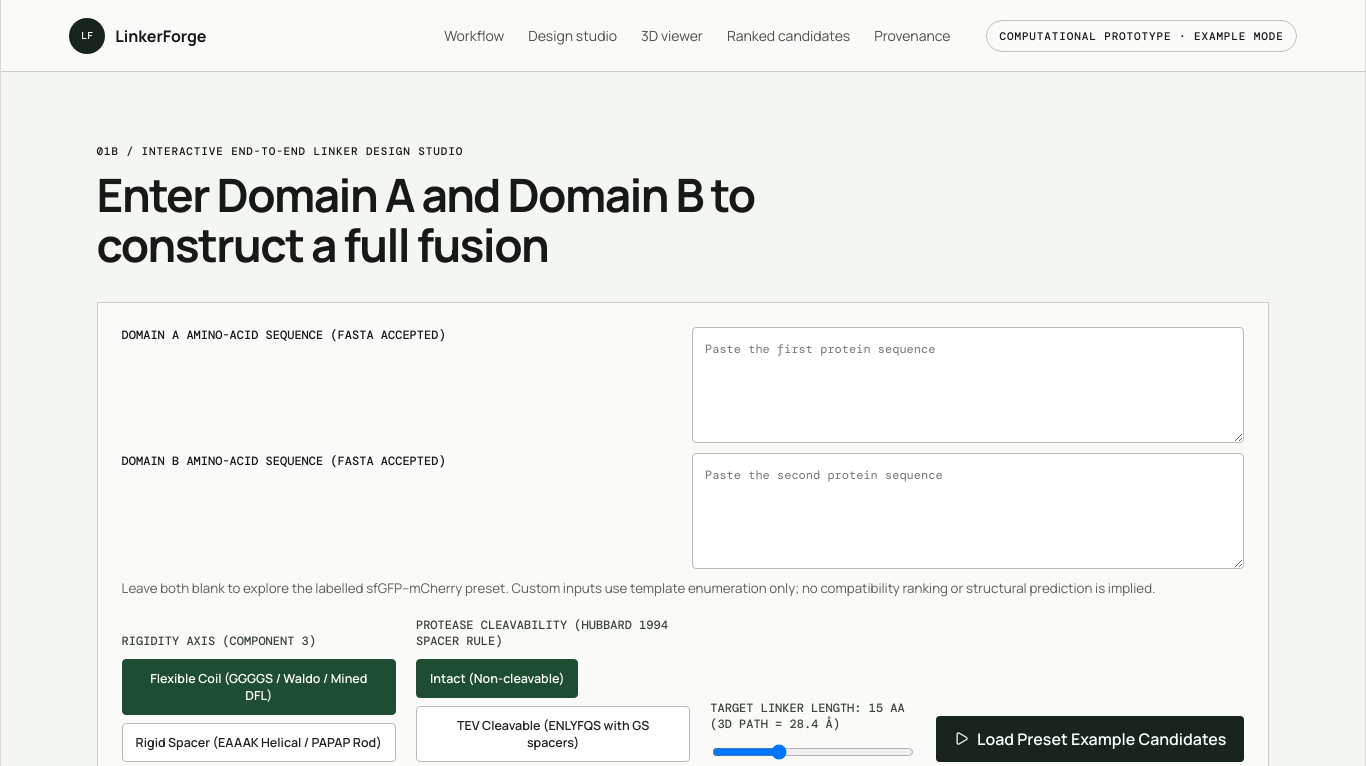
Test: LinkerForge interface › accepts two custom domains and offers full-fusion templates without invented coordinates
The width and height of the screenshot is (1366, 766).
(page scrolled)
Type "ACDEFG" into the text box labelled "Domain A amino-acid sequence (FASTA accepted)".
click(968, 385); type("ACDEFG")  # box [692,327,1244,443]
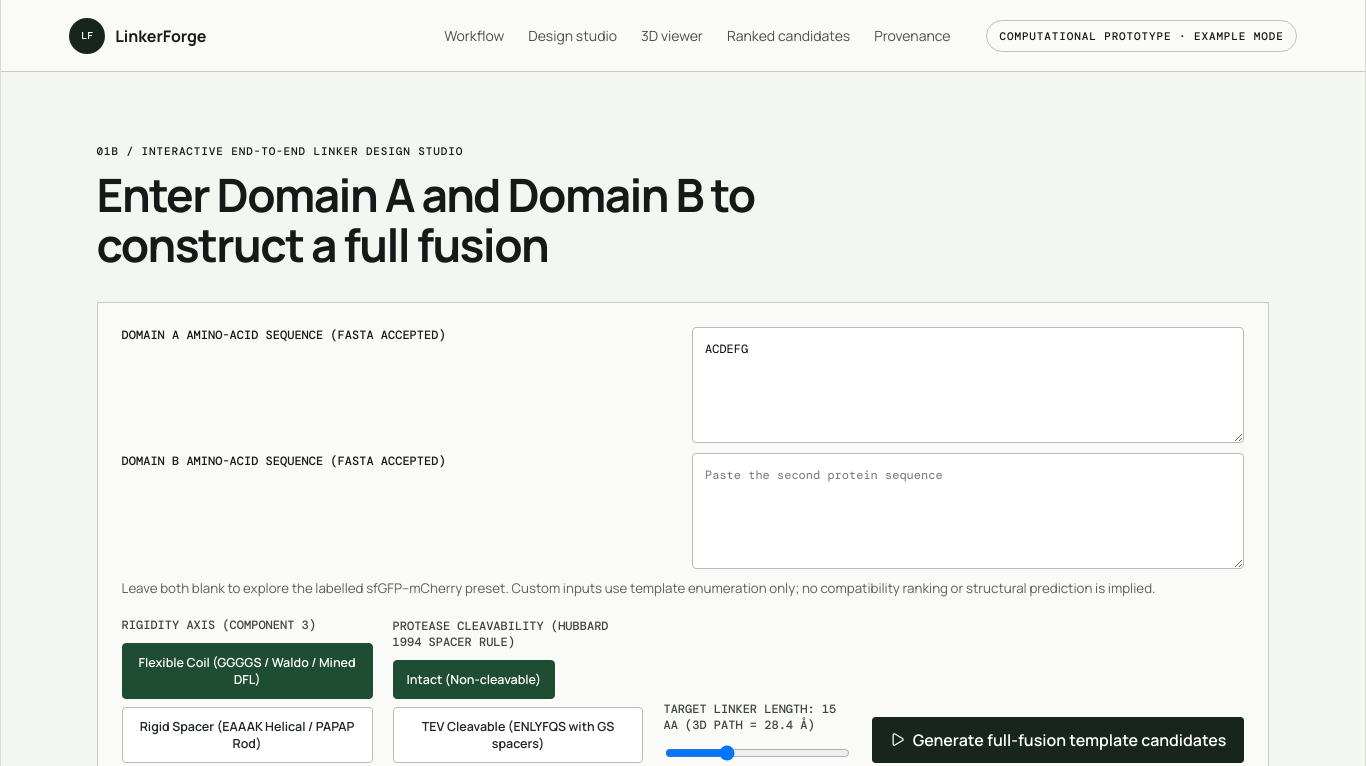
Type "HIKLMN" into the text box labelled "Domain B amino-acid sequence (FASTA accepted)".
click(968, 511); type("HIKLMN")  # box [692,453,1244,569]
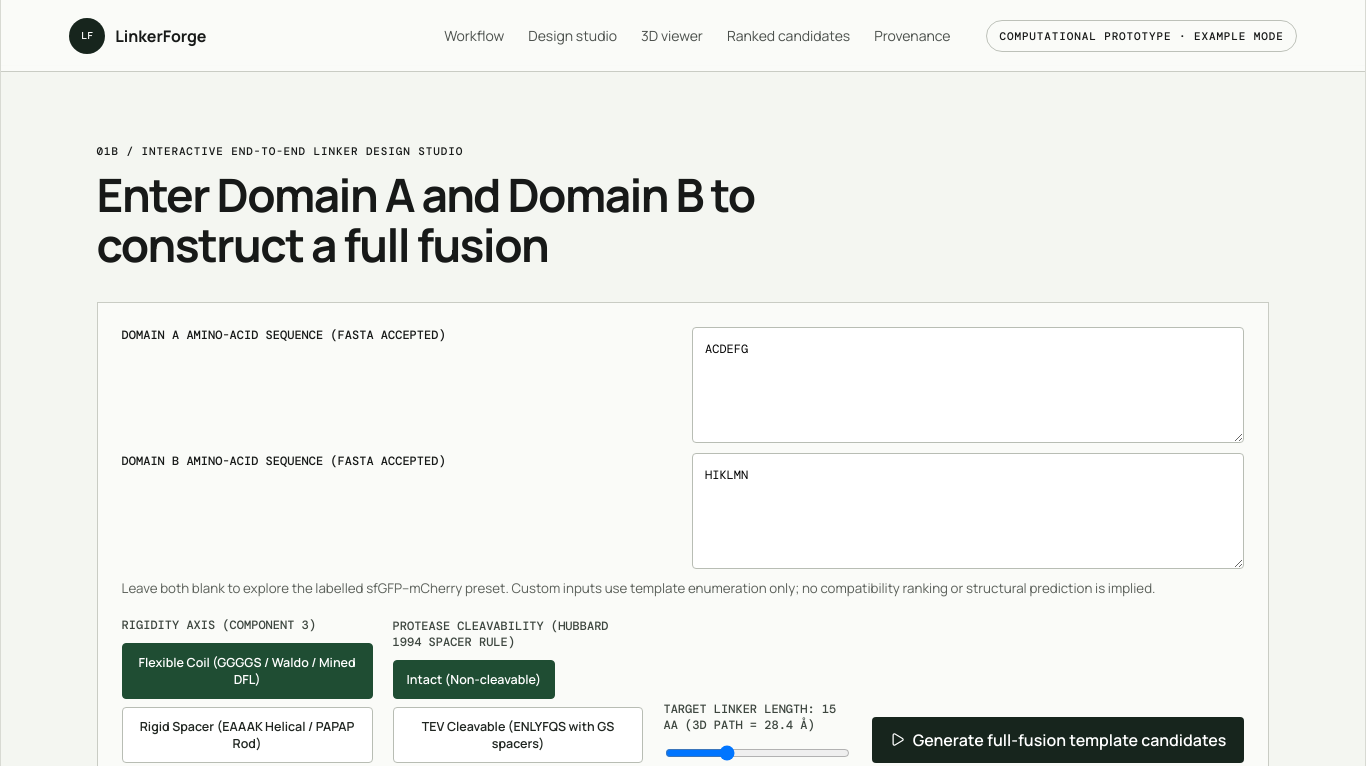
Click the button "Generate full-fusion template candidates".
click(1058, 740)  # box [872,717,1244,763]
(page scrolled)
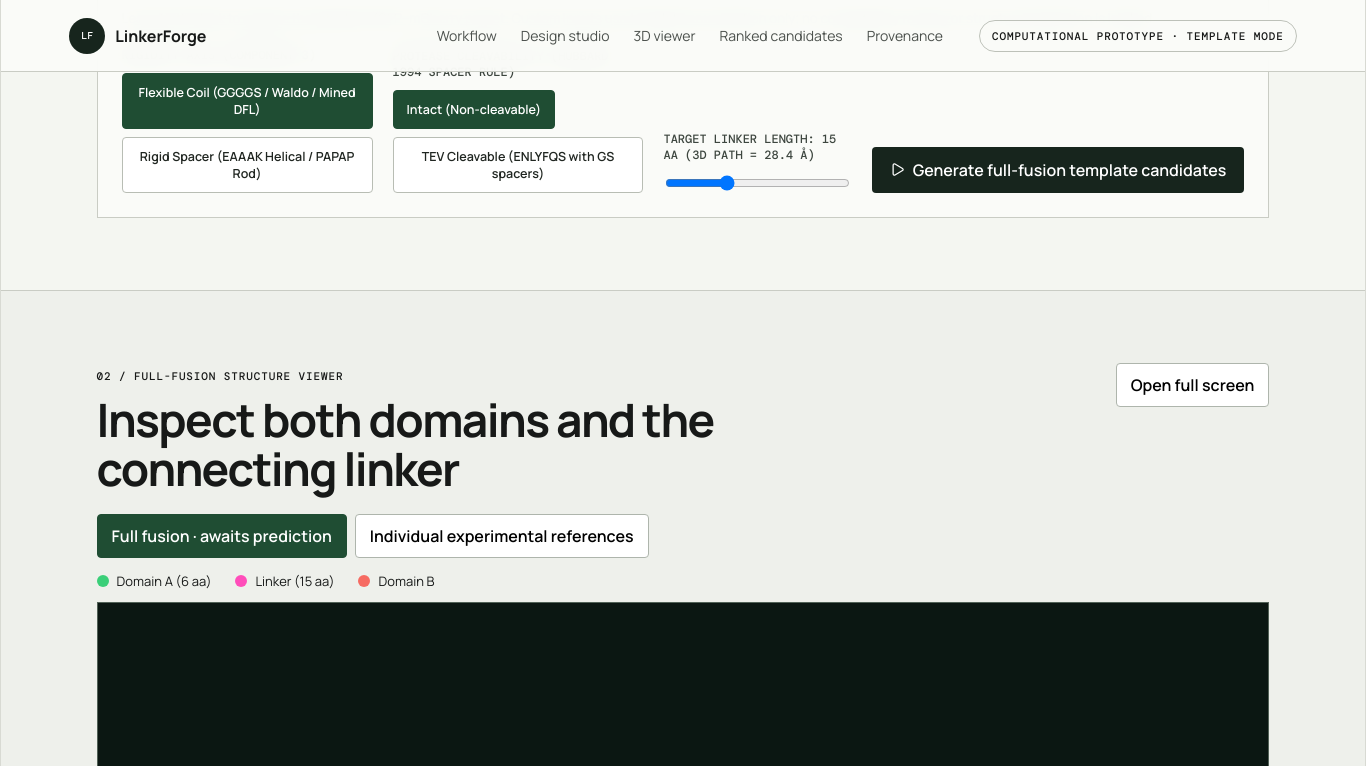
Click the button "Open full screen".
click(1192, 385)  # box [1116,363,1269,407]
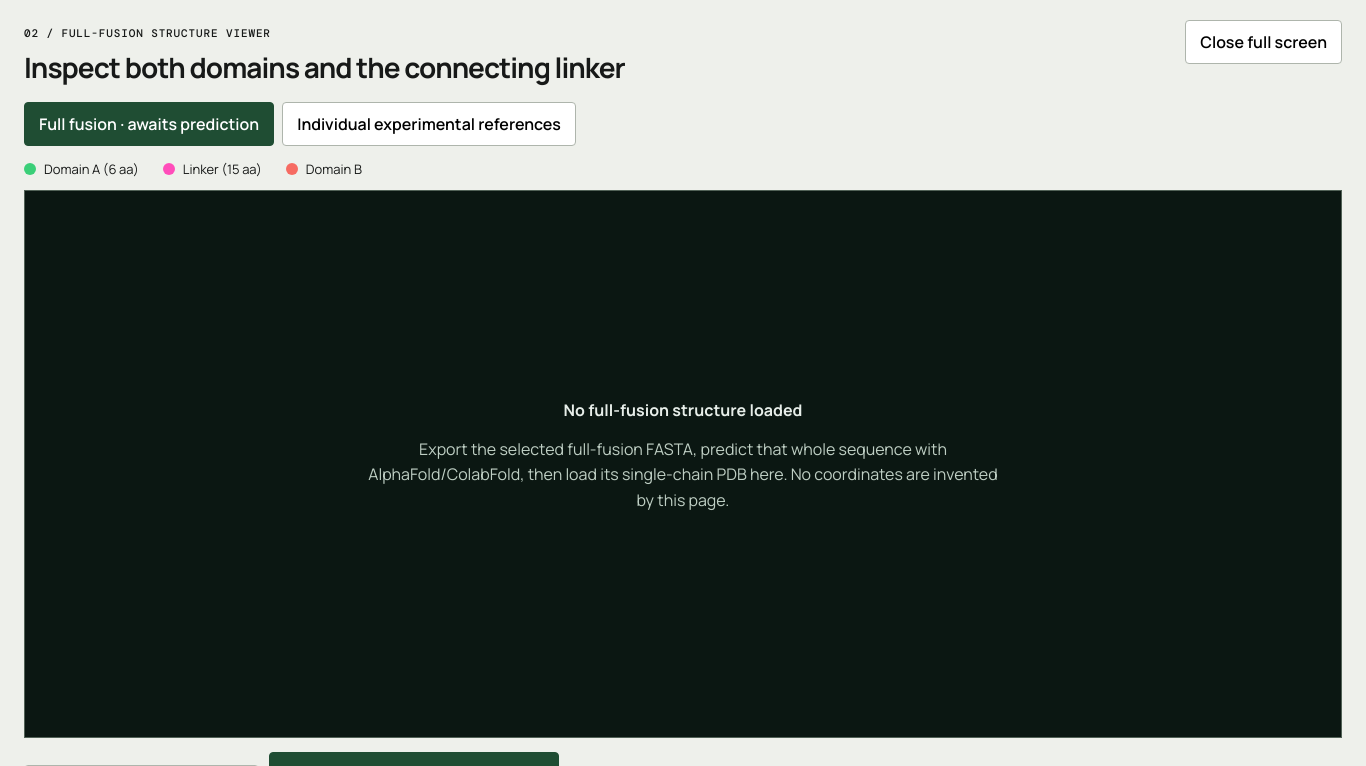
Check: the button "Close full screen" is shown, box [1185,20,1342,64]
